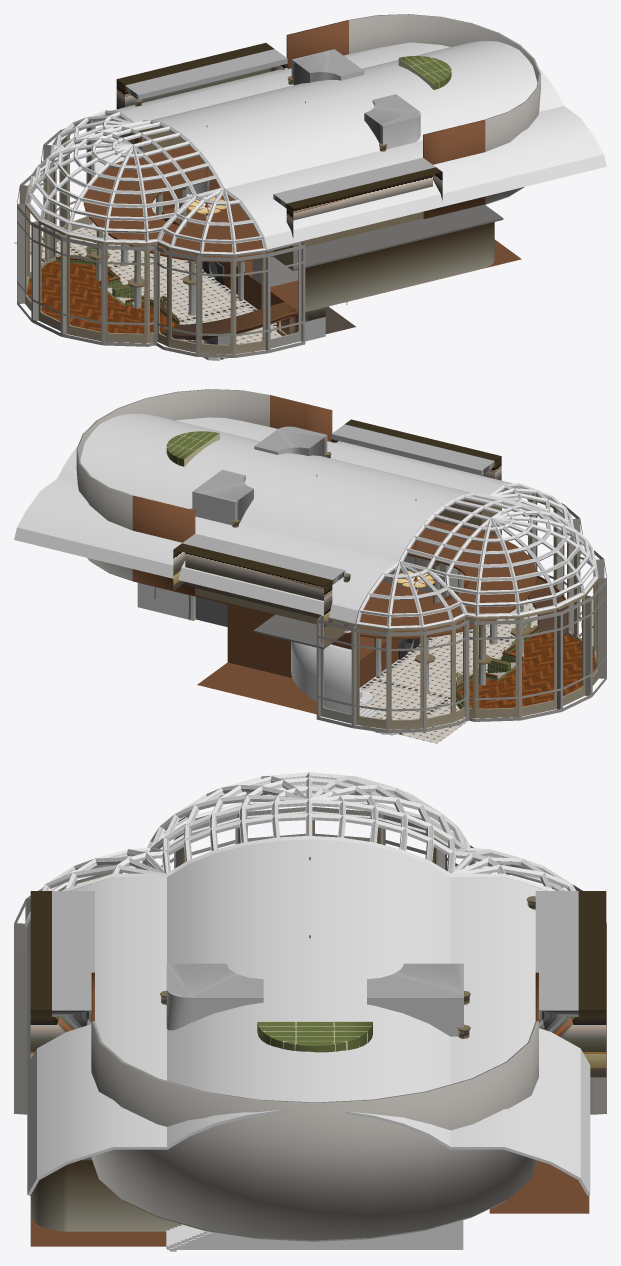
File: ResturantBlockout_v6.fbx
3 views of the same model, one above another, from view 1: azimuth 30°, elevation 25°; view 2: azimuth 150°, elevation 25°; view 3: azimuth 270°, elevation 25° (orthographic). The views are drawn at different scales.
Visible parts, largest first — view 1: Roof1_1, Plane.016, Roof1, Cylinder.025, Pilars.007, Cylinder.004, Plane.023, Roof1.001, Pilars.017, Pilars.015, Cylinder.008, Plane.015 (+11 smaller); view 2: Roof1_1, Plane.016, Roof1, Cylinder.025, Cylinder.004, Pilars.015, Plane.023, Plane.004, Roof1.001, Cylinder.008, Pilars.002, Pilars.017 (+9 smaller); view 3: Roof1_1, Plane.016, Roof1, Pilars.015, Pilars.002, Pilars.017, Roof1.001, Pilars.007, Cylinder.025, Plane.004, Cube.028, Cylinder.001 (+2 smaller).
Boxes of the visible parts, <box> form: Roof1_1: <box>96,40,606,249</box>; Plane.016: <box>286,14,540,218</box>; Roof1: <box>26,110,267,255</box>; Cylinder.025: <box>17,120,305,357</box>; Pilars.007: <box>305,222,494,311</box>; Cylinder.004: <box>25,118,301,354</box>; Plane.023: <box>83,145,524,262</box>; Roof1.001: <box>29,112,264,252</box>; Pilars.017: <box>273,157,442,268</box>; Pilars.015: <box>116,43,287,152</box>; Cylinder.008: <box>14,223,281,359</box>; Plane.015: <box>27,260,179,333</box>; Roof1_1: <box>14,413,528,622</box>; Plane.016: <box>76,389,332,595</box>; Roof1: <box>355,483,598,628</box>; Cylinder.025: <box>316,493,606,733</box>; Cylinder.004: <box>320,491,598,729</box>; Pilars.015: <box>173,533,345,647</box>; Plane.023: <box>94,520,536,639</box>; Plane.004: <box>197,574,468,714</box>; Roof1.001: <box>359,485,595,626</box>; Cylinder.008: <box>360,598,537,743</box>; Pilars.002: <box>192,426,327,626</box>; Pilars.017: <box>331,419,501,531</box>; Roof1_1: <box>27,839,590,1195</box>; Plane.016: <box>91,972,538,1240</box>; Roof1: <box>25,772,576,926</box>; Pilars.015: <box>535,891,606,1077</box>; Pilars.002: <box>166,963,463,1036</box>; Pilars.017: <box>30,891,94,1058</box>; Roof1.001: <box>46,776,570,890</box>; Pilars.007: <box>30,1160,181,1231</box>; Cylinder.025: <box>14,807,606,1114</box>; Plane.004: <box>30,1160,589,1246</box>; Cube.028: <box>167,1220,463,1249</box>; Cylinder.001: <box>257,1021,372,1052</box>.
Bounding box in the file's own units: 29998 × 11568 × 19295.
